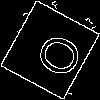O: (25, 25, 86, 82)
